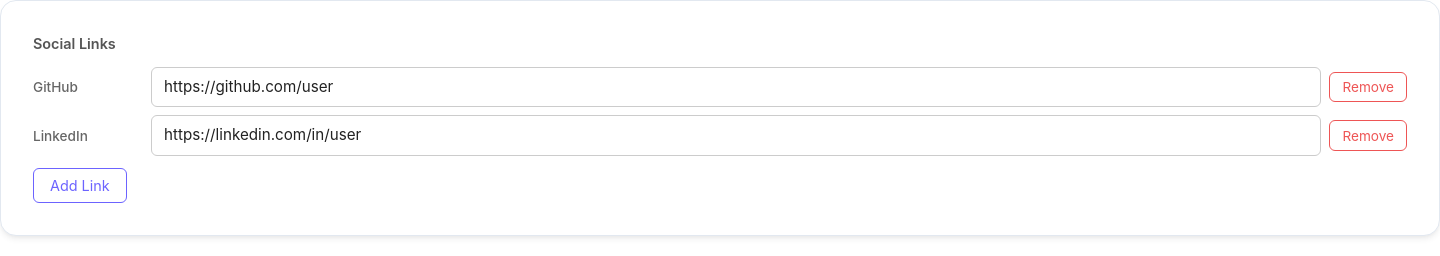
Test case: SocialLinks › Remove button deletes the corresponding link entry
Expected: the number of fields is 2, [151,67,1321,107]; [151,115,1321,156]
What coordinates should you click on to do the following:
click the button with aria-label "remove link 1"
I would click on:
 (1368, 87)
Its box is [1329,72,1407,102].
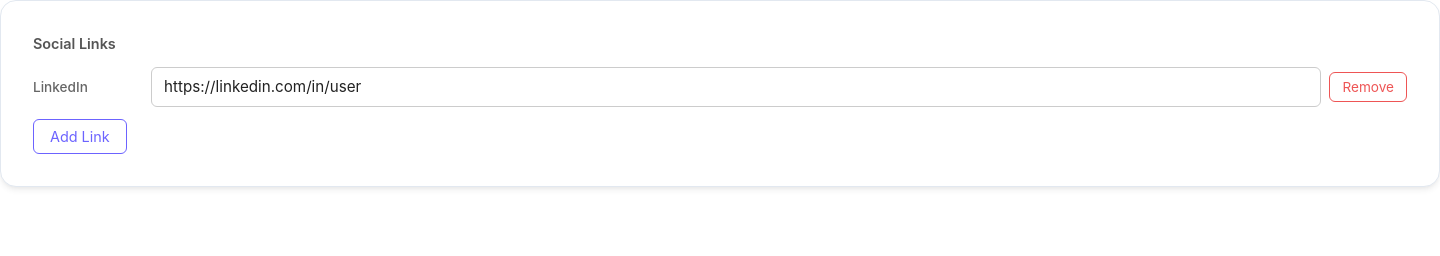
Now the number of fields is 1, box [151,67,1321,107]
